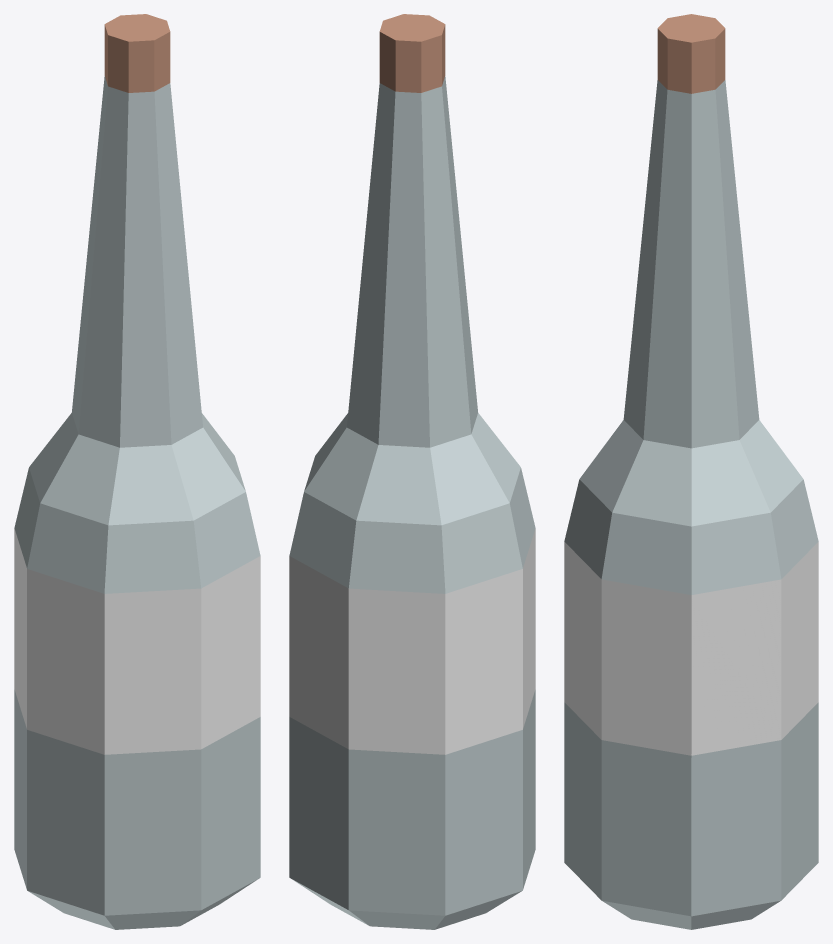
The model's file is Vodka.fbx.
The picture shows the model from 3 angles, left to right: view 1: azimuth 30°, elevation 25°; view 2: azimuth 150°, elevation 25°; view 3: azimuth 270°, elevation 25°; orthographic projection.
Parts seen in each view (by area): view 1: Vodka; view 2: Vodka; view 3: Vodka.
Part boxes in pixels (bbox=[...]): Vodka: bbox=[14, 14, 260, 929]; Vodka: bbox=[289, 14, 535, 929]; Vodka: bbox=[564, 14, 818, 929].
Bounding box in the file's own units: 0.09 × 0.338 × 0.09.
